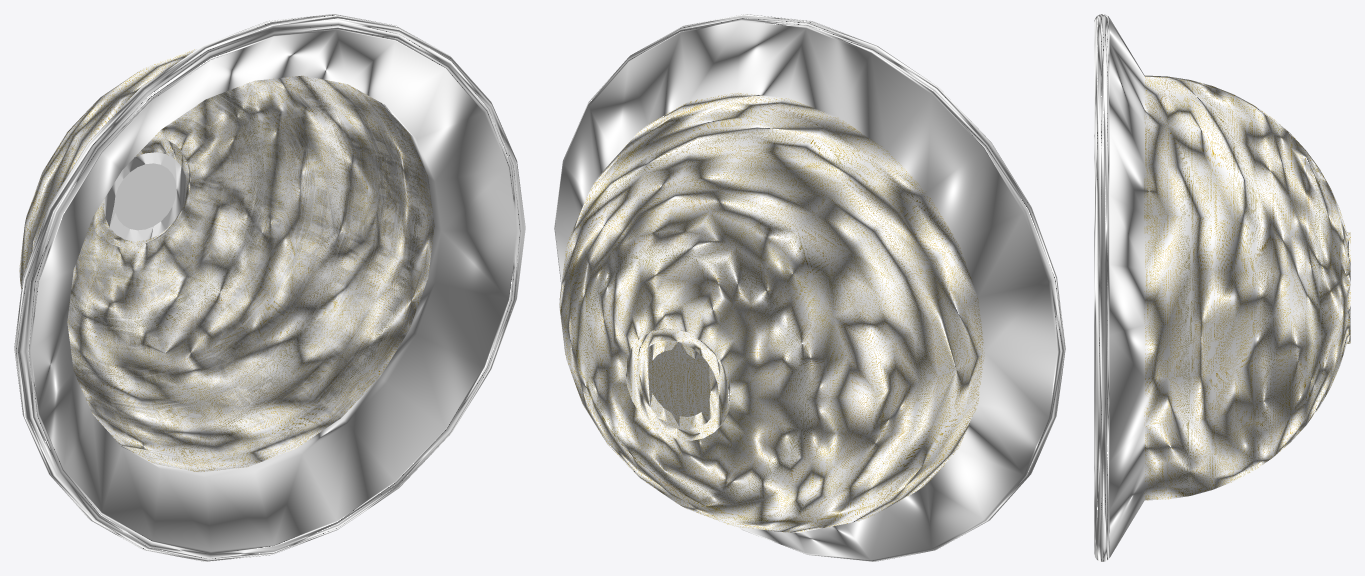
File: model_align.obj
The picture shows the model from 3 angles, left to right: view 1: azimuth 30°, elevation 25°; view 2: azimuth 150°, elevation 25°; view 3: azimuth 270°, elevation 25°; orthographic projection. The views are drawn at different scales.
Size of the model in its own units: 0.1393 by 0.1393 by 0.065.
